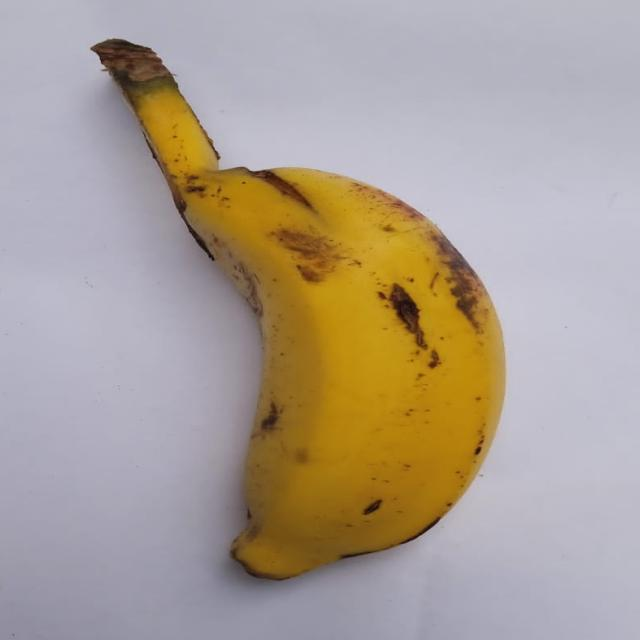banana: (93, 40, 504, 578)
